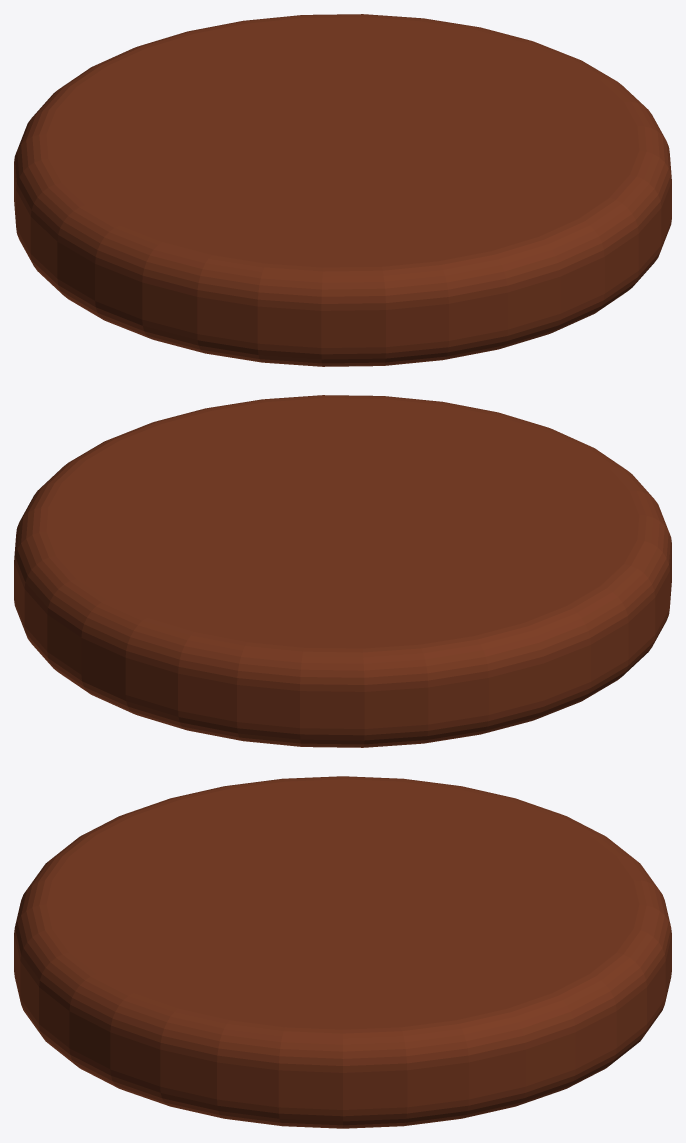
The model's file is Patty.fbx.
3 views of the same model, one above another, from view 1: azimuth 30°, elevation 25°; view 2: azimuth 150°, elevation 25°; view 3: azimuth 270°, elevation 25° (orthographic).
Visible parts, largest first — view 1: BurgerPatty; view 2: BurgerPatty; view 3: BurgerPatty.
Boxes of the visible parts, <box> form: BurgerPatty: <box>14,14,671,366</box>; BurgerPatty: <box>14,395,671,747</box>; BurgerPatty: <box>14,776,671,1128</box>.
Size of the model in its own units: 0.1979 by 0.0318 by 0.1979.
